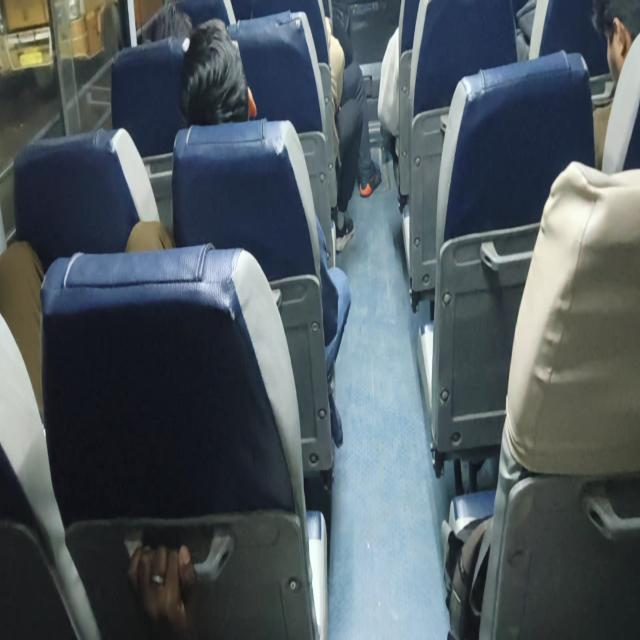person: (126, 17, 352, 447), (238, 1, 381, 252), (178, 17, 257, 127), (590, 0, 639, 171), (126, 541, 197, 633), (138, 1, 194, 44)
